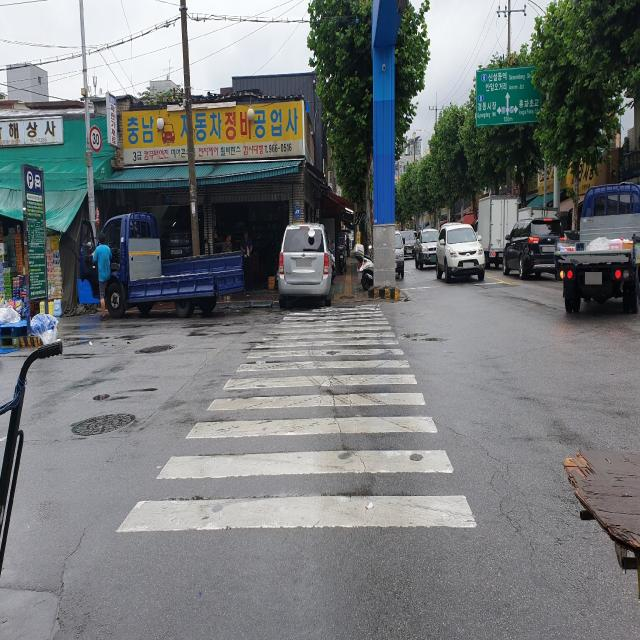횡단보도: (115, 302, 478, 534)
